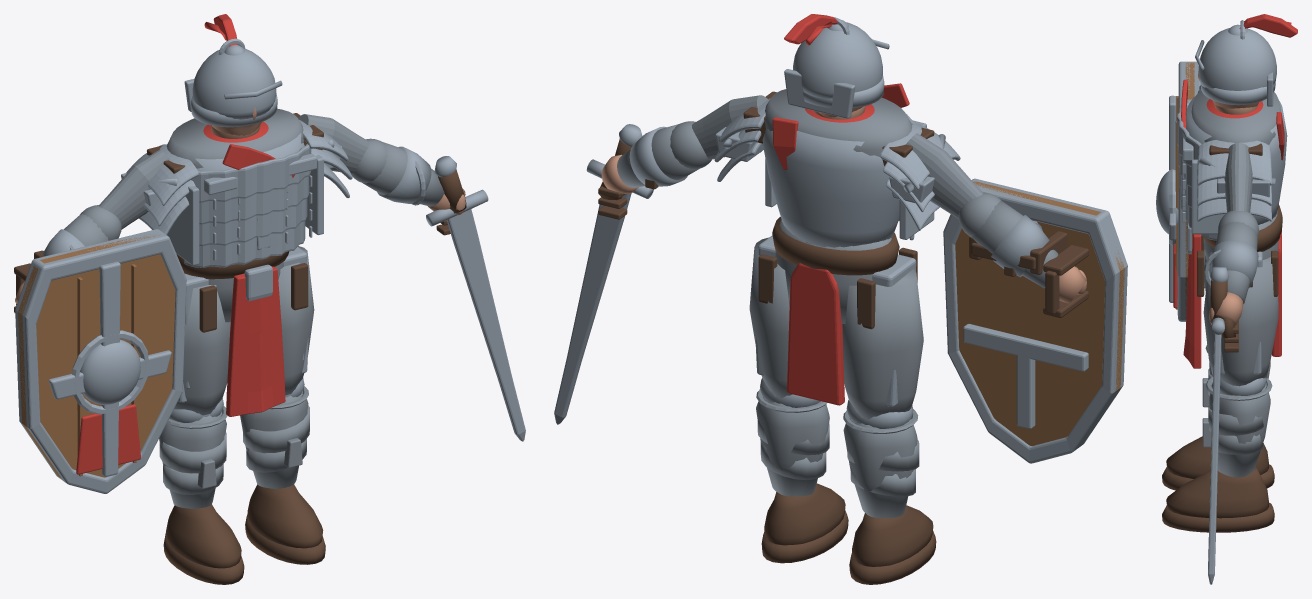
File: SK_Infantry_A_v004_P035_Apose_Review.fbx
3 renders of one model, left to right at view 1: azimuth 30°, elevation 25°; view 2: azimuth 150°, elevation 25°; view 3: azimuth 270°, elevation 25°, orthographic. The views are drawn at different scales.
Visible parts, largest first — view 1: Shield, Shield_Rim, GEO_Infantry_WaistCloth_Front_P03R1, Sword, Helmet, Thigh_L, Boot_R, Boot_L, Body_Base, Shield_Boss, ChestArmor_Lamellar_4, Thigh_R (+37 smaller); view 2: Shield, Shield_Rim, ChestArmor, Thigh_L, WaistCloth_Rear_P02R1, Helmet, Sword, Calf_L, Body_Base, Calf_R, Thigh_R, Boot_R (+28 smaller); view 3: Thigh_R, Helmet, Boot_R, Body_Base, Calf_R, Sword, ShoulderArmor_R_1, GEO_Infantry_WaistCloth_Front_P03R1, UpperArm_R, BootSole_R, Shield_Rim, Boot_L (+47 smaller).
Part boxes in pixels (x1=…): Shield: x1=18, y1=234, x2=175, y2=478; Shield_Rim: x1=15, y1=229, x2=186, y2=493; GEO_Infantry_WaistCloth_Front_P03R1: x1=226, y1=266, x2=285, y2=416; Sword: x1=446, y1=209, x2=525, y2=441; Helmet: x1=192, y1=48, x2=276, y2=119; Thigh_L: x1=174, y1=285, x2=230, y2=415; Boot_R: x1=247, y1=484, x2=323, y2=548; Boot_L: x1=166, y1=504, x2=241, y2=568; Body_Base: x1=166, y1=108, x2=304, y2=168; Shield_Boss: x1=80, y1=339, x2=140, y2=404; ChestArmor_Lamellar_4: x1=191, y1=144, x2=311, y2=202; Thigh_R: x1=278, y1=246, x2=314, y2=395; Shield: x1=955, y1=181, x2=1124, y2=445; Shield_Rim: x1=943, y1=178, x2=1127, y2=463; ChestArmor: x1=762, y1=120, x2=909, y2=247; Thigh_L: x1=842, y1=269, x2=923, y2=419; WaistCloth_Rear_P02R1: x1=787, y1=263, x2=844, y2=405; Helmet: x1=793, y1=22, x2=882, y2=98; Sword: x1=554, y1=193, x2=631, y2=424; Calf_L: x1=843, y1=418, x2=917, y2=518; Body_Base: x1=765, y1=89, x2=912, y2=246; Calf_R: x1=756, y1=397, x2=829, y2=496; Thigh_R: x1=749, y1=237, x2=792, y2=398; Boot_R: x1=764, y1=483, x2=845, y2=545; Thigh_R: x1=1203, y1=252, x2=1278, y2=386; Helmet: x1=1198, y1=28, x2=1276, y2=90; Boot_R: x1=1166, y1=467, x2=1268, y2=518; Body_Base: x1=1191, y1=89, x2=1280, y2=144; Calf_R: x1=1209, y1=383, x2=1270, y2=477; Sword: x1=1208, y1=333, x2=1221, y2=584; ShoulderArmor_R_1: x1=1197, y1=140, x2=1272, y2=185; GEO_Infantry_WaistCloth_Front_P03R1: x1=1183, y1=234, x2=1201, y2=368; UpperArm_R: x1=1224, y1=142, x2=1252, y2=212; BootSole_R: x1=1162, y1=502, x2=1274, y2=532; Shield_Rim: x1=1177, y1=61, x2=1200, y2=321; Boot_L: x1=1166, y1=436, x2=1268, y2=478.
Size of the model in its own units: 1.92 by 1.82 by 0.4799.
